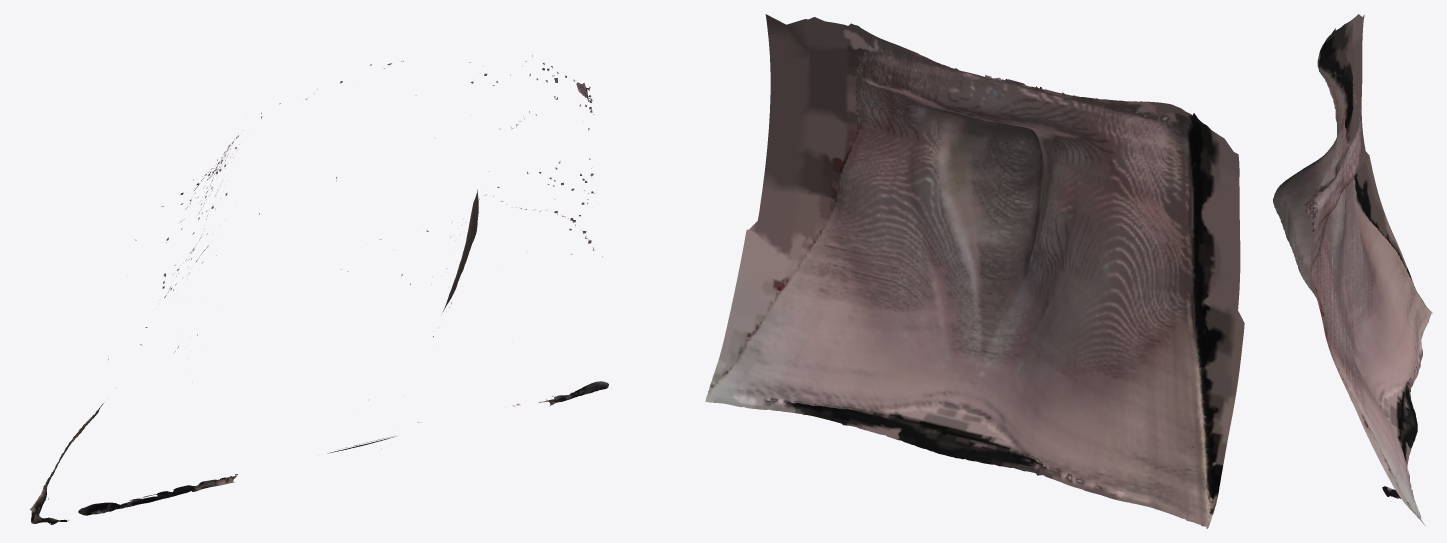
3 views of the same model, side by side, from view 1: azimuth 30°, elevation 25°; view 2: azimuth 150°, elevation 25°; view 3: azimuth 270°, elevation 25° (orthographic). The views are drawn at different scales.
Bounding box in the file's own units: 0.00154 × 0.00105 × 0.00048.
